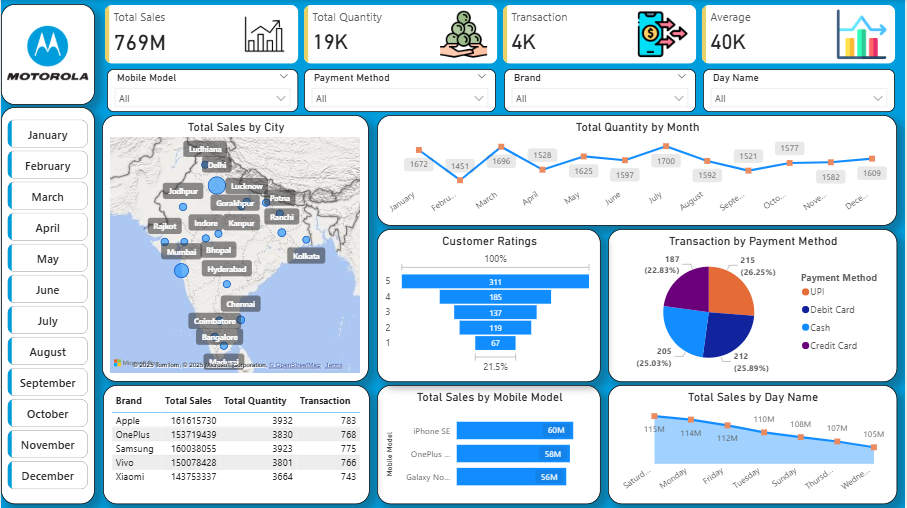

Layout of this report page (visuals, bound fields, positions):
{"tool":"powerbi","page":{"name":"Page 1","canvas":[1280,720],"ordinal":0},"visuals":[{"type":"shape","box":[0,5.7,133.2,143.1],"z":0},{"type":"image","box":[4.3,19.8,124.7,119.1],"z":1000},{"type":"shape","box":[0,151.7,133.2,562.7],"z":2000},{"type":"advancedSlicerVisual","fields":{"Values":["Sales_Data.Date.Variation.Date Hierarchy.Month"]},"box":[4.3,164.4,124.7,534.3],"z":3000},{"type":"cardVisual","fields":{"Data":["Sales_Data.Total Sales","Sales_Data.Total Quantity","Sales_Data.Transaction","Sales_Data.Average"]},"box":[140.3,0,1136.7,97.8],"z":4000},{"type":"map","fields":{"Category":["Sales_Data.City"],"Size":["Sales_Data.Total Sales"]},"box":[143.1,163,378.4,378.4],"z":5000},{"type":"lineChart","fields":{"Y":["Sales_Data.Total Quantity"],"Category":["Sales_Data.Date.Variation.Date Hierarchy.Month","Sales_Data.Date.Variation.Date Hierarchy.Day"]},"box":[532.9,163,737,157.3],"z":6000},{"type":"clusteredBarChart","fields":{"Category":["Sales_Data.Mobile Model"],"Y":["Sales_Data.Total Sales"]},"box":[532.9,545.7,317.5,168.7],"z":7000},{"type":"pieChart","fields":{"Category":["Sales_Data.Payment Method"],"Y":["Sales_Data.Transaction"]},"box":[860.3,324.6,409.6,216.9],"z":8000},{"type":"funnel","title":"Customer Ratings","fields":{"Category":["Sales_Data.Customer Ratings"],"Y":["CountNonNull(Sales_Data.Customer Ratings)"]},"box":[532.9,324.6,317.5,216.9],"z":9000},{"type":"areaChart","fields":{"Category":["Sales_Data.Day Name"],"Y":["Sales_Data.Total Sales"]},"box":[860.3,545.7,409.6,168.7],"z":10000},{"type":"tableEx","fields":{"Values":["Sales_Data.Brand","Sales_Data.Total Sales","Sales_Data.Total Quantity","Sales_Data.Transaction"]},"box":[144.6,545.7,378.4,168.7],"z":11000},{"type":"slicer","fields":{"Values":["Sales_Data.Mobile Model"]},"box":[150.2,97.8,270.7,60.9],"z":12000},{"type":"slicer","fields":{"Values":["Sales_Data.Brand"]},"box":[712.9,97.8,272.1,60.9],"z":13000},{"type":"slicer","fields":{"Values":["Sales_Data.Day Name"]},"box":[995,97.8,272.1,60.9],"z":14000},{"type":"slicer","fields":{"Values":["Sales_Data.Payment Method"]},"box":[429.4,97.8,272.1,60.9],"z":15000}]}

Visuals, with their boxes in screenshot pixels (x1, y1, x2, y2), scaled from the page's 1280x720 canvas onto the 907x508 screenshot:
shape: detection(0, 4, 94, 105)
image: detection(3, 14, 91, 98)
shape: detection(0, 107, 94, 504)
advancedSlicerVisual - Sales_Data.Date.Variation.Date Hierarchy.Month: detection(3, 116, 91, 493)
cardVisual - Sales_Data.Total Sales x Sales_Data.Total Quantity: detection(99, 0, 905, 69)
map - Sales_Data.City x Sales_Data.Total Sales: detection(101, 115, 370, 382)
lineChart - Sales_Data.Total Quantity x Sales_Data.Date.Variation.Date Hierarchy.Month: detection(378, 115, 900, 226)
clusteredBarChart - Sales_Data.Mobile Model x Sales_Data.Total Sales: detection(378, 385, 603, 504)
pieChart - Sales_Data.Payment Method x Sales_Data.Transaction: detection(610, 229, 900, 382)
"Customer Ratings" funnel: detection(378, 229, 603, 382)
areaChart - Sales_Data.Day Name x Sales_Data.Total Sales: detection(610, 385, 900, 504)
tableEx - Sales_Data.Brand x Sales_Data.Total Sales: detection(102, 385, 371, 504)
slicer - Sales_Data.Mobile Model: detection(106, 69, 298, 112)
slicer - Sales_Data.Brand: detection(505, 69, 698, 112)
slicer - Sales_Data.Day Name: detection(705, 69, 898, 112)
slicer - Sales_Data.Payment Method: detection(304, 69, 497, 112)
